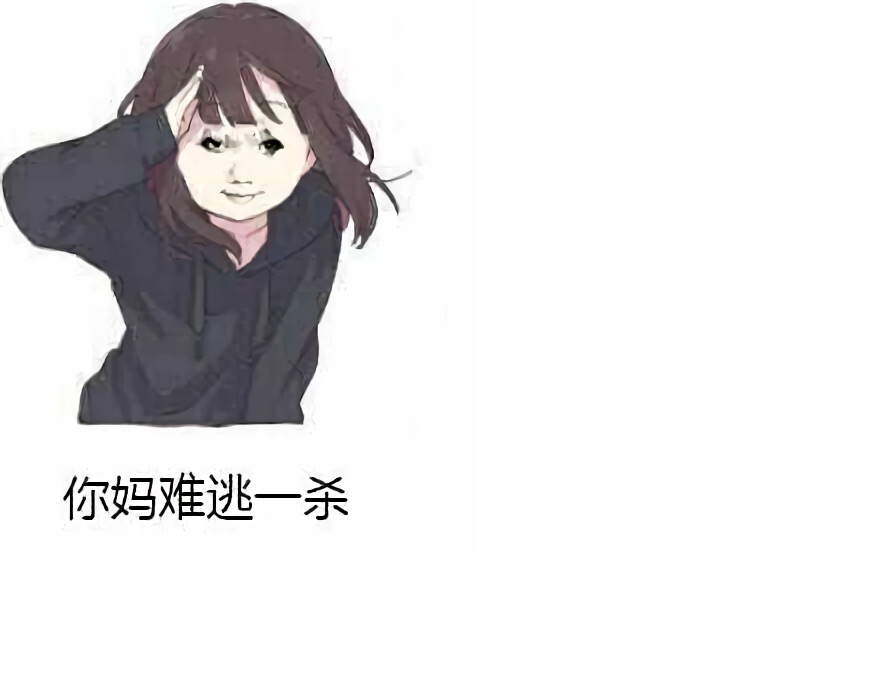dragon: (194, 122, 293, 209)
